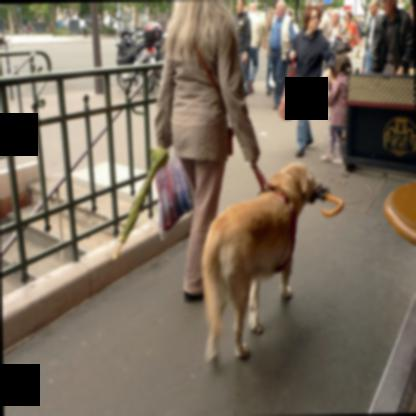handbag: (150, 145, 193, 243), (277, 62, 296, 124)
